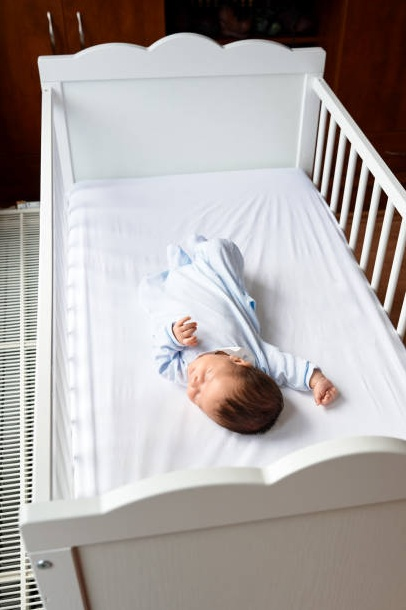baby: (140, 236, 336, 433)
crib: (71, 223, 344, 491)
